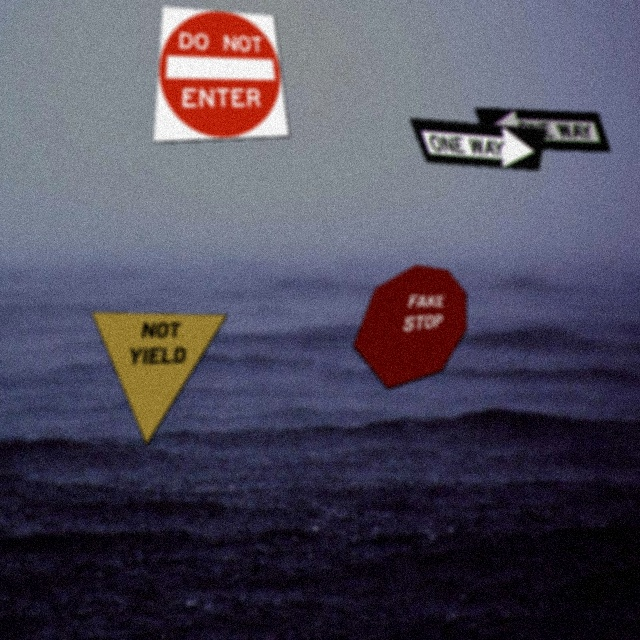DO_NOT_ENTER: (152, 5, 290, 143)
FAKE_STOP: (352, 264, 467, 390)
NOT_YIELD: (90, 311, 228, 446)
ONE_WAY_ left: (473, 107, 611, 152)
ONE_WAY_ right: (408, 117, 546, 171)
